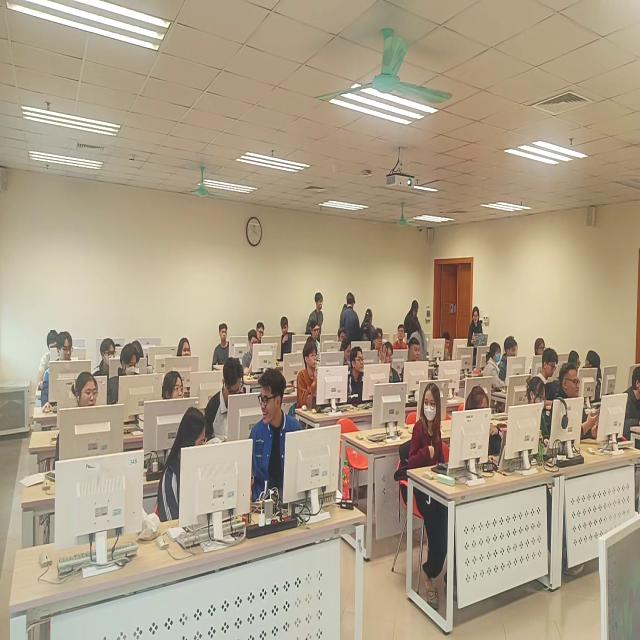raise_hand: (380, 342, 402, 384)
raise_head: (298, 341, 321, 410), (348, 347, 365, 405), (212, 322, 230, 372), (402, 337, 421, 383), (161, 371, 186, 399), (394, 326, 409, 350), (178, 339, 194, 359), (373, 329, 384, 351), (338, 329, 348, 343)
stand: (341, 293, 361, 343), (409, 317, 428, 362), (307, 293, 326, 336), (469, 307, 484, 347), (361, 309, 377, 342), (405, 298, 419, 334)
using_computer: (205, 358, 245, 446), (40, 331, 75, 415), (465, 386, 505, 459), (107, 344, 140, 406), (620, 365, 640, 443), (38, 329, 60, 388), (484, 343, 507, 391), (72, 370, 99, 409), (500, 335, 518, 381), (242, 330, 261, 368), (539, 349, 559, 383), (529, 339, 547, 372), (528, 376, 547, 407), (309, 322, 322, 363), (569, 350, 582, 380), (340, 338, 353, 367), (440, 333, 452, 363), (130, 341, 146, 360), (256, 322, 266, 345)
using_phone: (549, 364, 599, 439)
